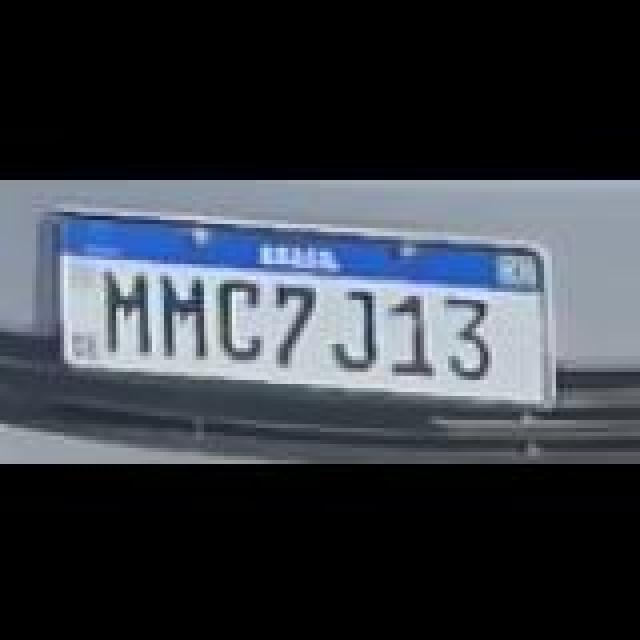1: (384, 290, 440, 374)
3: (444, 294, 500, 378)
7: (270, 278, 322, 362)
C: (216, 274, 272, 358)
J: (328, 286, 384, 370)
M: (98, 268, 158, 356), (158, 270, 218, 354)
